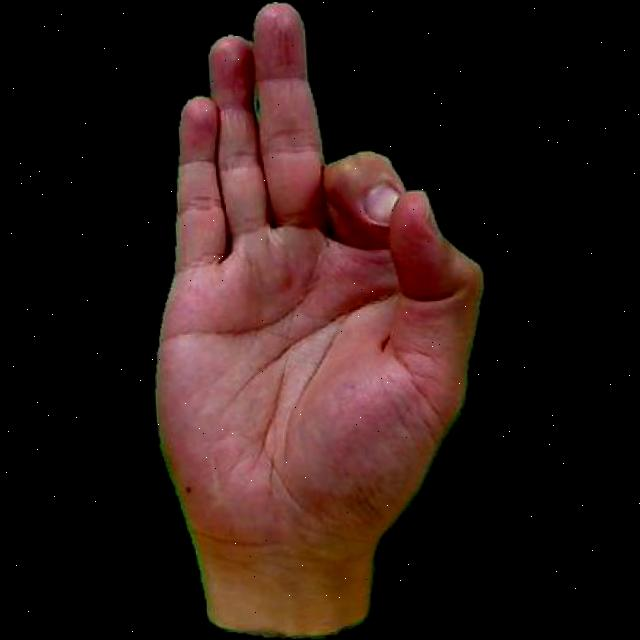f: (108, 0, 501, 640)
